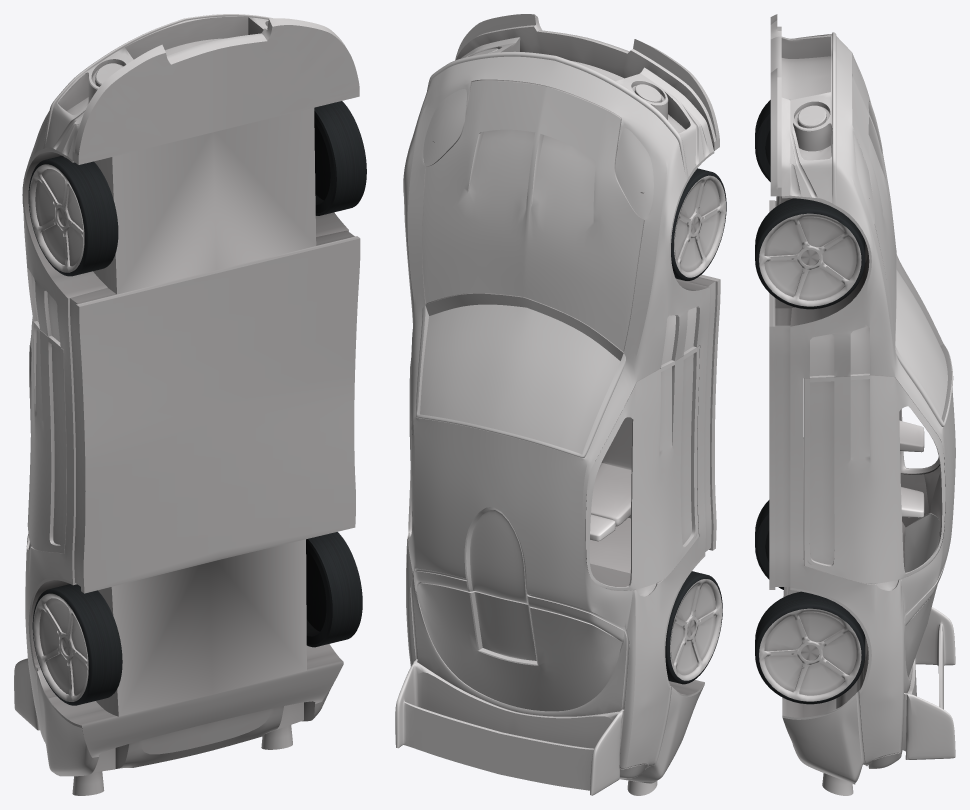
The model's file is 24seven.glb.
The picture shows the model from 3 angles, left to right: view 1: azimuth 30°, elevation 25°; view 2: azimuth 150°, elevation 25°; view 3: azimuth 270°, elevation 25°; orthographic projection. The views are drawn at different scales.
Visible parts, largest first — view 1: Body, Wheel4, Wheel2, Wheel3, Wheel1; view 2: Body, Wheel4, Wheel2; view 3: Body, Wheel3, Wheel1, Wheel2, Wheel4.
Part boxes in pixels (bbox=[...]): Body: bbox=[14, 14, 360, 795]; Wheel4: bbox=[32, 584, 122, 705]; Wheel2: bbox=[28, 156, 118, 276]; Wheel3: bbox=[306, 532, 362, 647]; Wheel1: bbox=[314, 101, 366, 215]; Body: bbox=[395, 14, 720, 795]; Wheel4: bbox=[665, 571, 722, 684]; Wheel2: bbox=[671, 168, 726, 280]; Body: bbox=[769, 14, 955, 795]; Wheel3: bbox=[755, 591, 865, 704]; Wheel1: bbox=[755, 198, 865, 309]; Wheel2: bbox=[755, 100, 770, 181]; Wheel4: bbox=[755, 500, 783, 589].
Size of the model in its own units: 2.91 by 7.5 by 1.93.
Materials: 9 (1 with a texture image).
